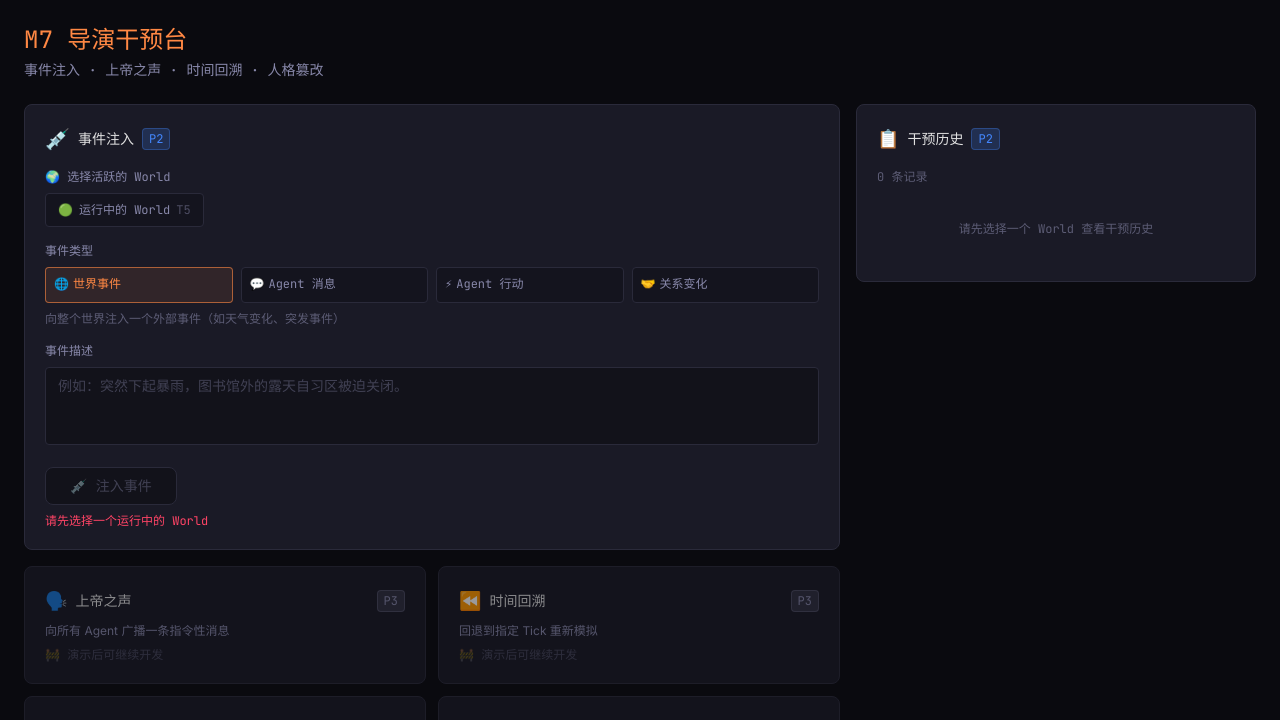
Test: Step 24 DirectorIntervention — 渲染与基础交互 › shows target agent selector when switching to agent_message
Click the button "🟢 运行中的 World T5" at point(124, 210), box [45,193,204,227]
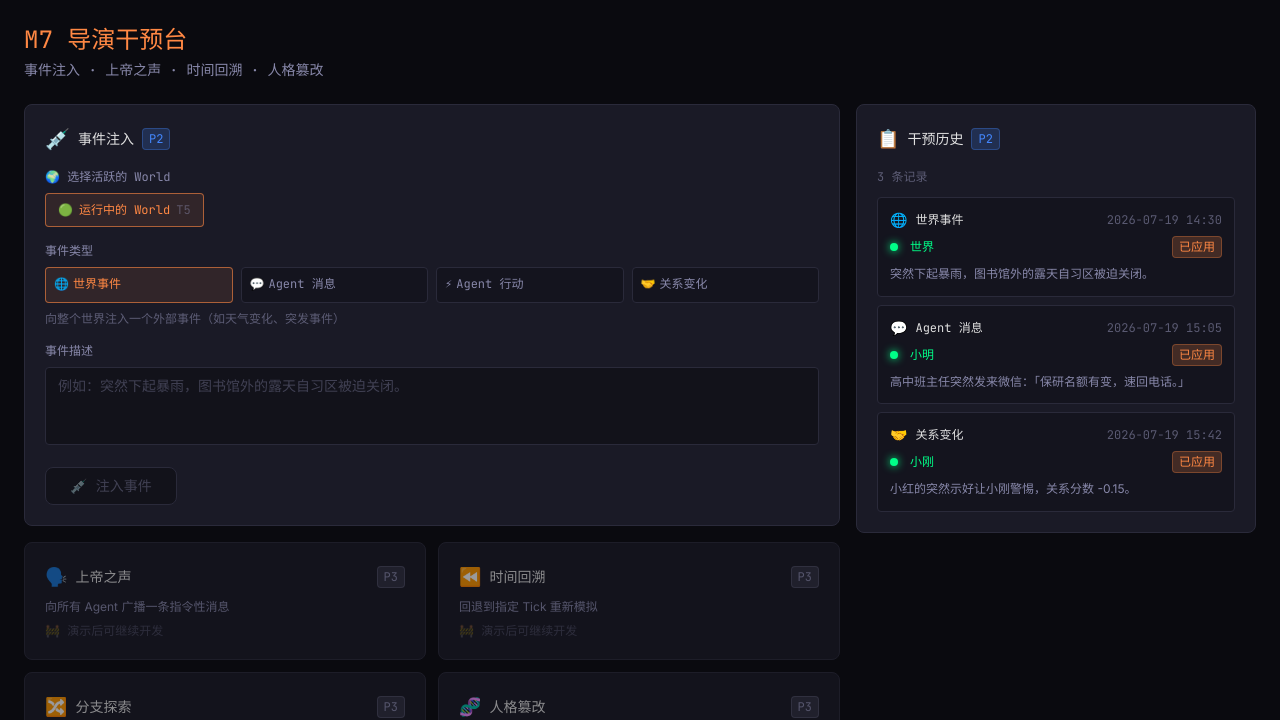
Click the button "💬 Agent 消息" at point(334, 285), box [240,267,428,303]
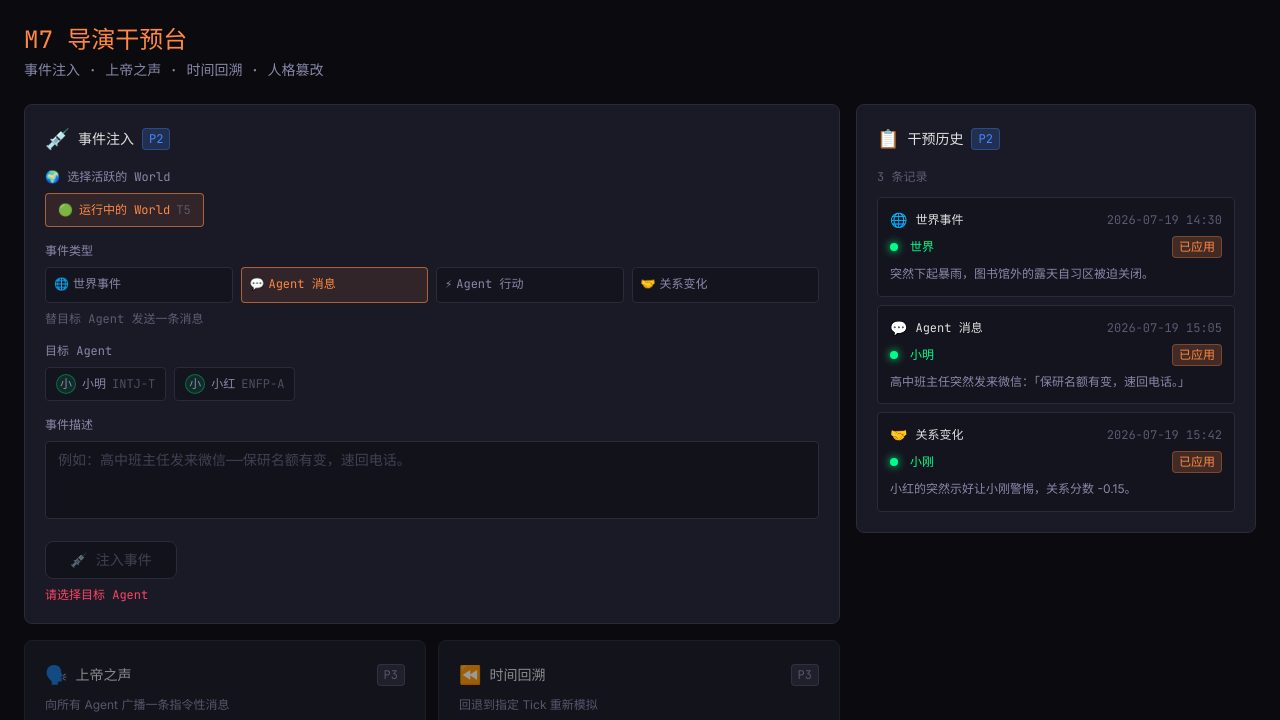
Now the text "目标 Agent" is shown, box [45,343,112,359]
